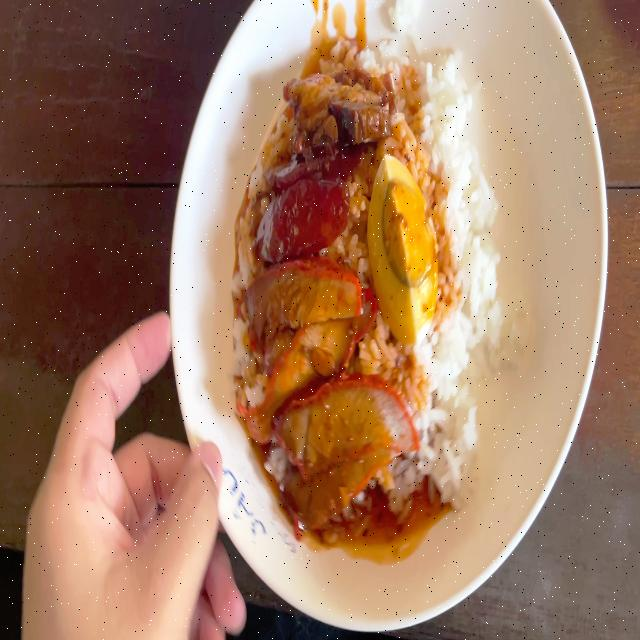boiled_egg: (374, 151, 434, 348)
chainese_sausage: (255, 153, 355, 255)
crispy_pork: (286, 61, 390, 152)
red_pork: (246, 271, 392, 495)
red_pork_and_crispy_pork: (244, 46, 499, 502)
rice: (436, 160, 496, 361), (392, 41, 477, 155), (413, 361, 478, 508)
